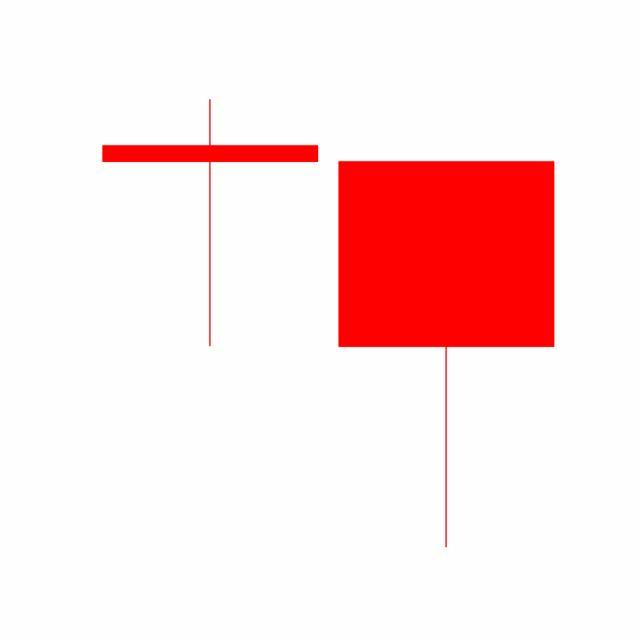Hammer: (328, 157, 566, 552)
